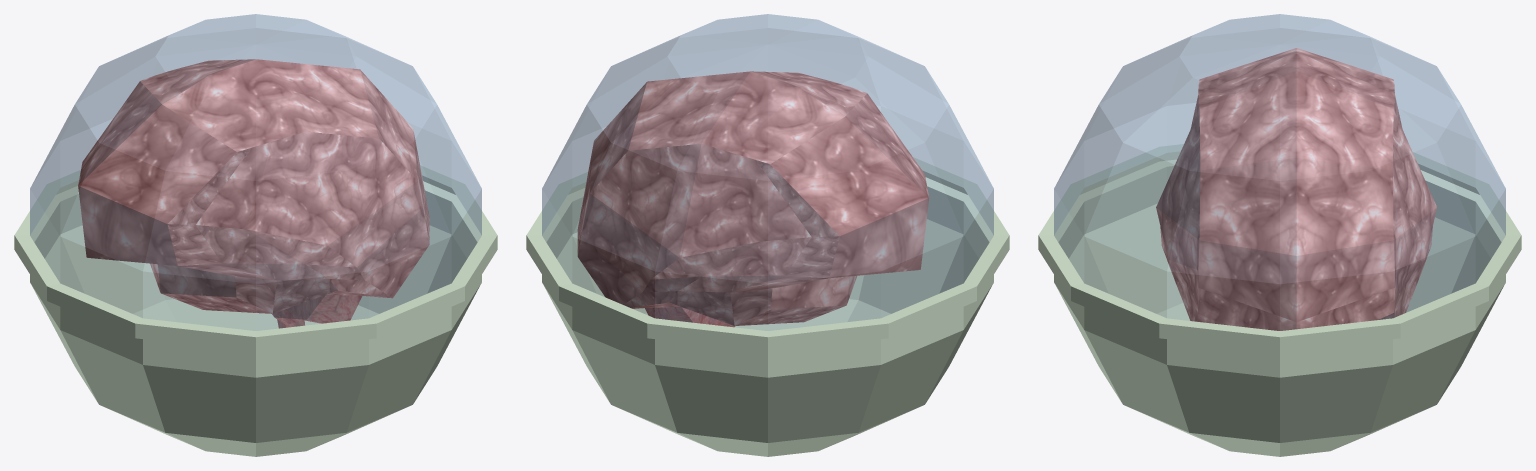
The model's file is brainGacha.fbx.
3 renders of one model, left to right at view 1: azimuth 30°, elevation 25°; view 2: azimuth 150°, elevation 25°; view 3: azimuth 270°, elevation 25°, orthographic.
Parts seen in each view (by area): view 1: Top, brain, Sphere; view 2: Top, brain, Sphere; view 3: Top, Sphere, brain.
Part boxes in pixels (<box>): Top: <box>30,14,481,330</box>; brain: <box>78,59,429,328</box>; Sphere: <box>14,165,497,456</box>; Top: <box>542,14,993,330</box>; brain: <box>577,71,928,327</box>; Sphere: <box>526,157,1009,456</box>; Top: <box>1054,14,1505,330</box>; Sphere: <box>1038,144,1521,456</box>; brain: <box>1156,48,1436,330</box>.
Bounding box in the file's own units: 295 × 257 × 295.
